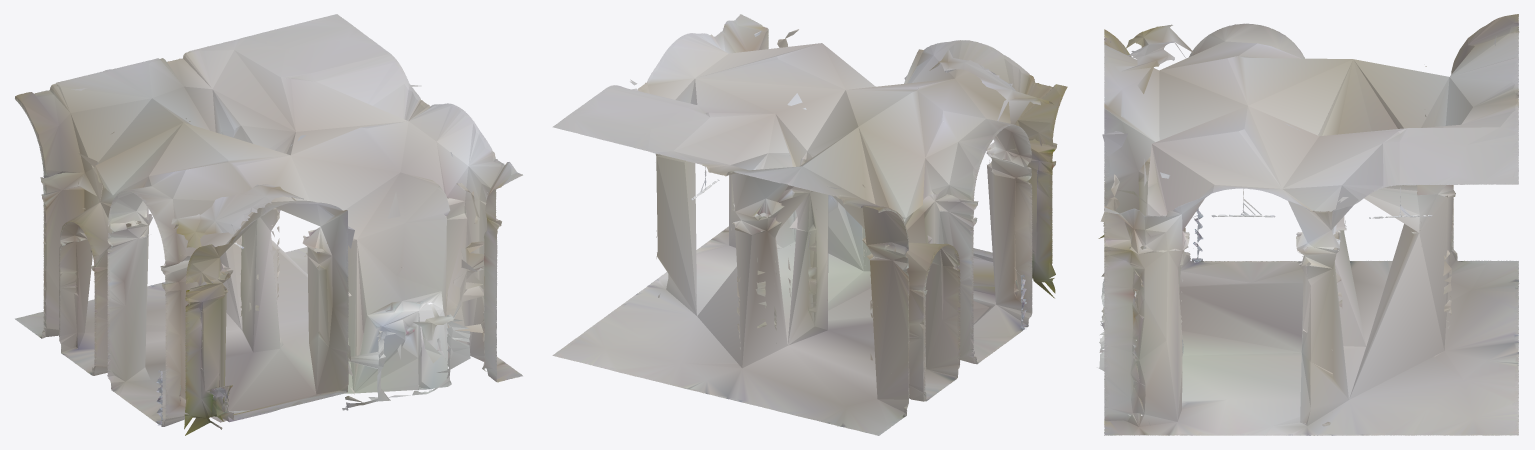
3 renders of one model, left to right at view 1: azimuth 30°, elevation 25°; view 2: azimuth 150°, elevation 25°; view 3: azimuth 270°, elevation 25°, orthographic. The views are drawn at different scales.
Bounding box in the file's own units: 10.25 × 6.96 × 10.24.
